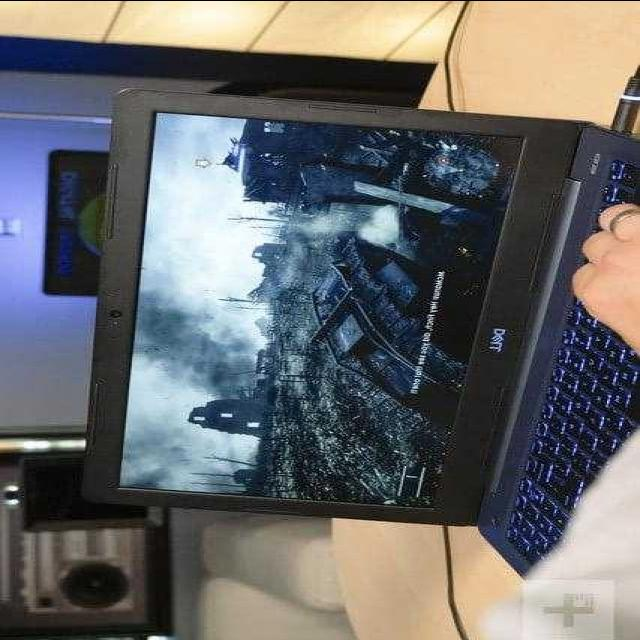laptop: (112, 87, 640, 558)
